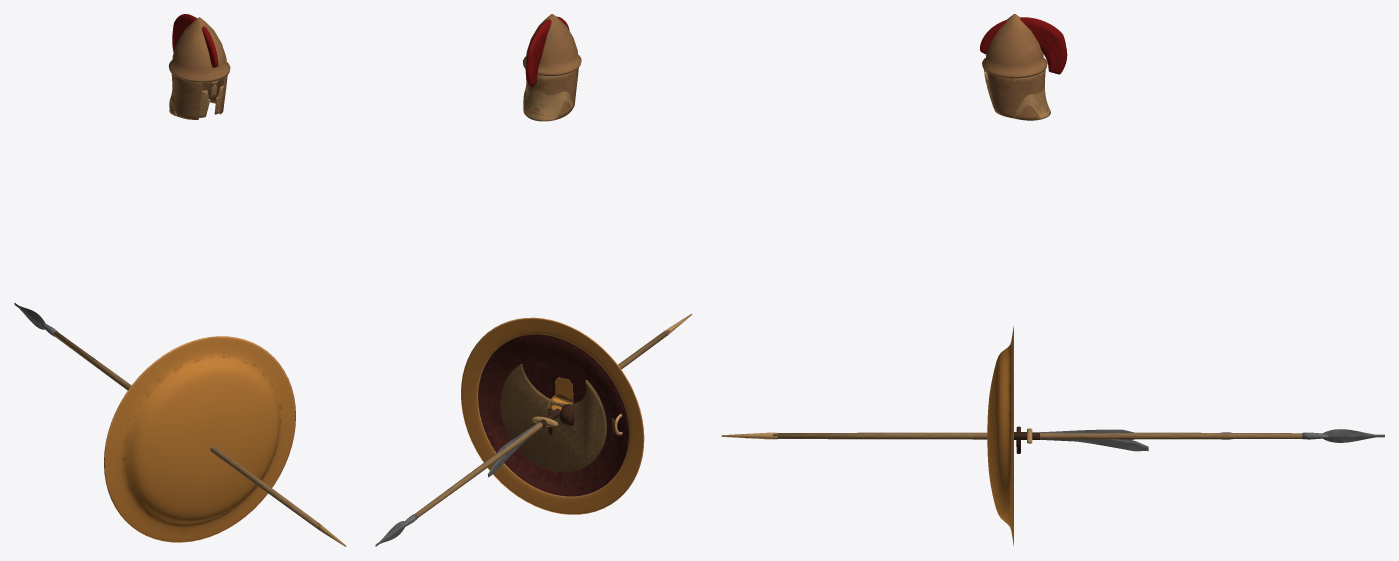
The model's file is gear.glb.
3 views of the same model, side by side, from view 1: azimuth 30°, elevation 25°; view 2: azimuth 150°, elevation 25°; view 3: azimuth 270°, elevation 25° (orthographic). The views are drawn at different scales.
Parts seen in each view (by area): view 1: aspis, helmet_pilos, dory, helmet_thracian, helmet_corinthian; view 2: aspis, pelta, helmet_corinthian, dory, helmet_pilos, helmet_thracian; view 3: dory, aspis, helmet_pilos, helmet_corinthian, helmet_thracian.
Part boxes in pixels (<box>): aspis: <box>104,336,295,542</box>; helmet_pilos: <box>168,17,230,82</box>; dory: <box>14,303,346,546</box>; helmet_thracian: <box>169,71,227,119</box>; helmet_corinthian: <box>169,14,226,117</box>; aspis: <box>461,317,644,514</box>; pelta: <box>500,364,606,472</box>; helmet_corinthian: <box>523,16,574,121</box>; dory: <box>375,313,692,546</box>; helmet_pilos: <box>523,14,581,75</box>; helmet_thracian: <box>523,68,578,120</box>; dory: <box>721,429,1384,442</box>; aspis: <box>987,326,1013,545</box>; helmet_pilos: <box>982,14,1047,78</box>; helmet_corinthian: <box>980,17,1067,119</box>; helmet_thracian: <box>985,60,1048,120</box>.
Bounding box in the file's own units: 0.9401 × 2.44 × 2.81.
Materials: 10 (10 with a texture image).
